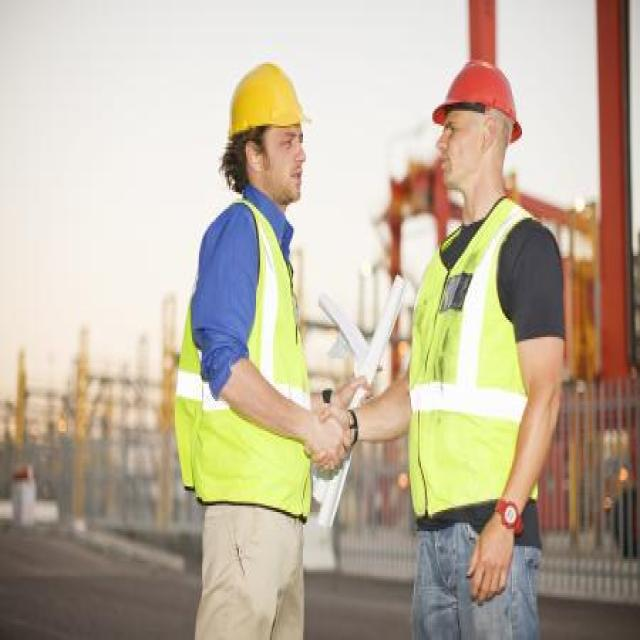helmet: (424, 54, 535, 150), (223, 56, 316, 145)
vest: (165, 196, 337, 523), (405, 181, 549, 523)
